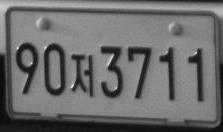0: (43, 42, 66, 95)
1: (156, 47, 181, 100), (185, 47, 209, 102)
3: (100, 44, 123, 98)
7: (126, 46, 152, 99)
9: (15, 41, 39, 95)
저: (70, 53, 94, 97)
